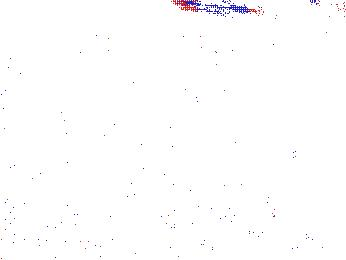X-ray fish: (285, 120, 308, 161), (124, 182, 141, 212)
